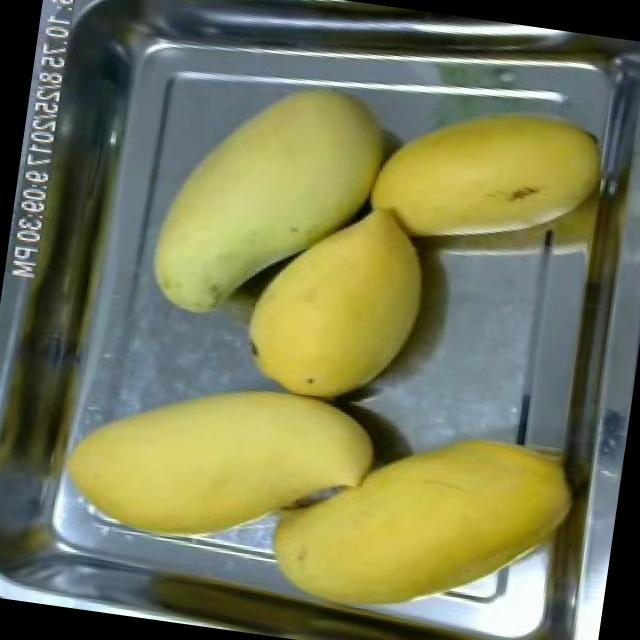fruit: (41, 344, 398, 582), (245, 398, 593, 640), (138, 55, 398, 344), (229, 182, 443, 422), (360, 82, 617, 268)
